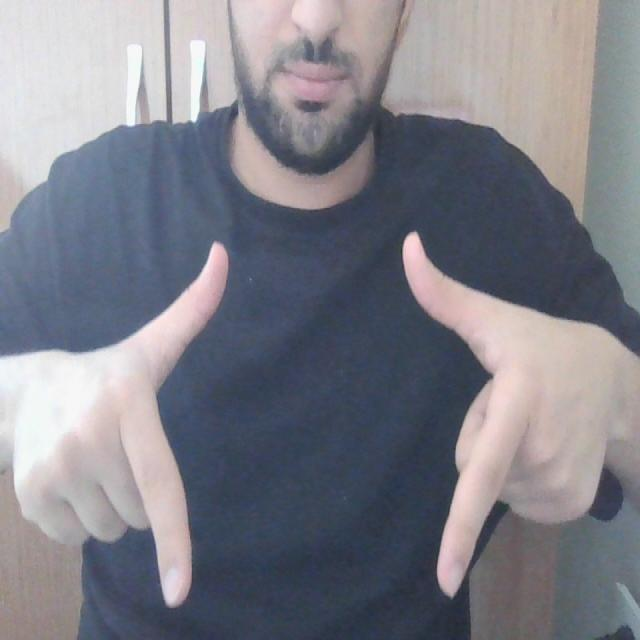Nerede: (108, 224, 538, 610)
